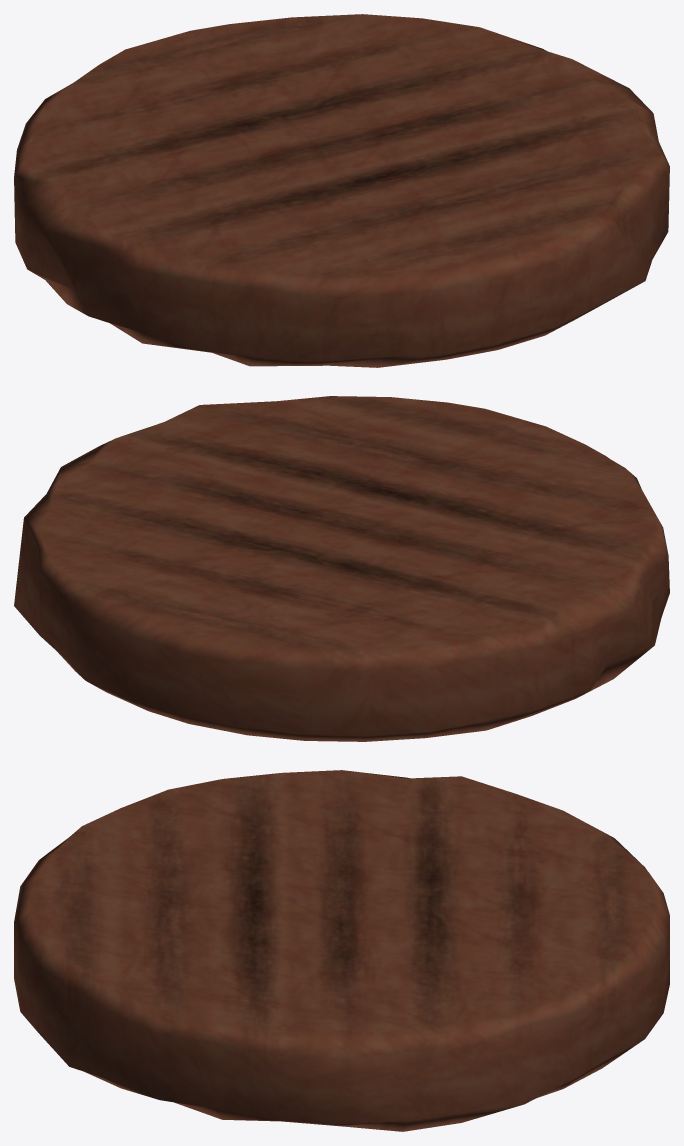
The model's file is MeatPattyCooked_Visual.glb.
3 renders of one model, top to bottom at view 1: azimuth 30°, elevation 25°; view 2: azimuth 150°, elevation 25°; view 3: azimuth 270°, elevation 25°, orthographic. The views are drawn at different scales.
Parts seen in each view (by area): view 1: Cooked meat patty; view 2: Cooked meat patty; view 3: Cooked meat patty.
Part boxes in pixels (left/top/right/bottom): Cooked meat patty: left=14, top=14, right=669, bottom=367; Cooked meat patty: left=14, top=396, right=669, bottom=741; Cooked meat patty: left=14, top=770, right=669, bottom=1131.
Bounding box in the file's own units: 0.7156 × 0.1083 × 0.6909.
1 material, 1 textured.
